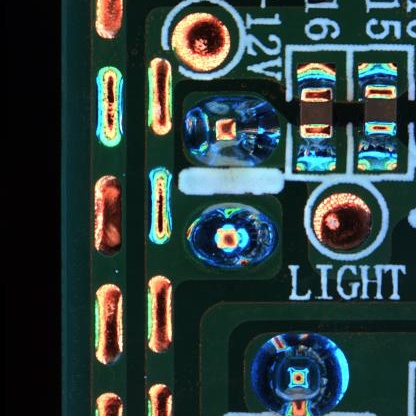spot: (252, 331, 350, 416), (186, 95, 281, 166), (183, 204, 279, 269), (309, 193, 372, 250), (169, 12, 231, 69)
